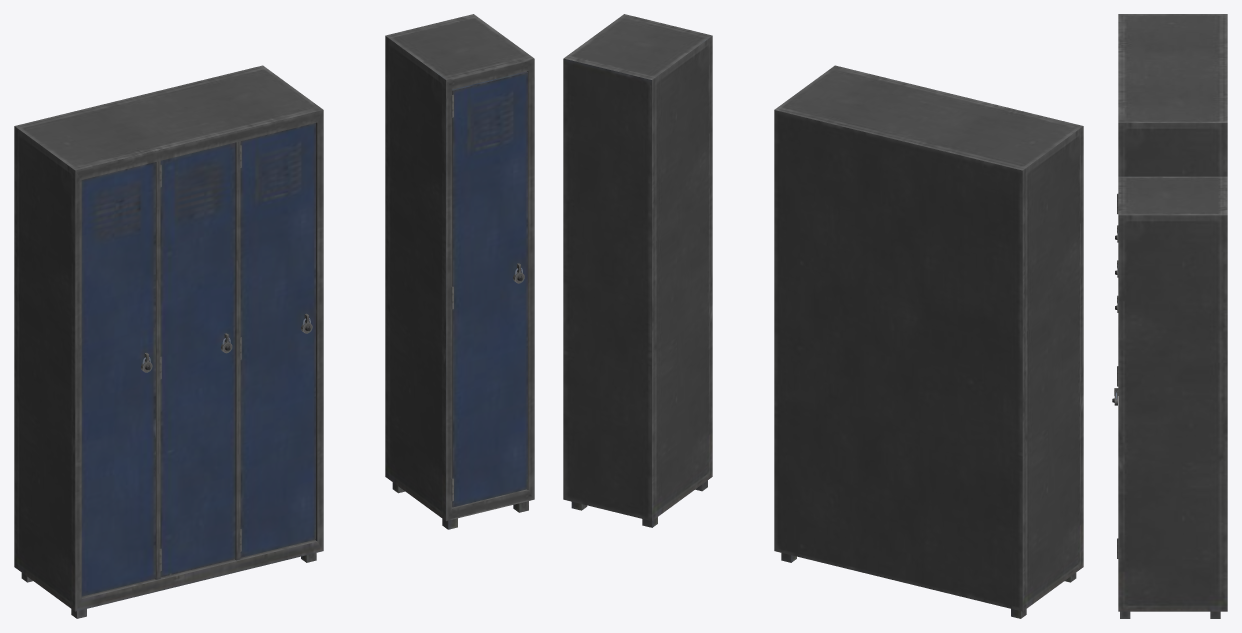
Rendered from locker_bank.glb.
3 views of the same model, side by side, from view 1: azimuth 30°, elevation 25°; view 2: azimuth 150°, elevation 25°; view 3: azimuth 270°, elevation 25° (orthographic). The views are drawn at different scales.
Parts seen in each view (by area): view 1: locker_bank; view 2: locker_bank; view 3: locker_bank.
Part boxes in pixels (x1,y1,x2,y2): locker_bank: (14,14,534,618); locker_bank: (563,14,1083,618); locker_bank: (1112,14,1227,618).
Bounding box in the file's own units: 1.92 × 1.8 × 0.4633.
Materials: 1 (1 with a texture image).
